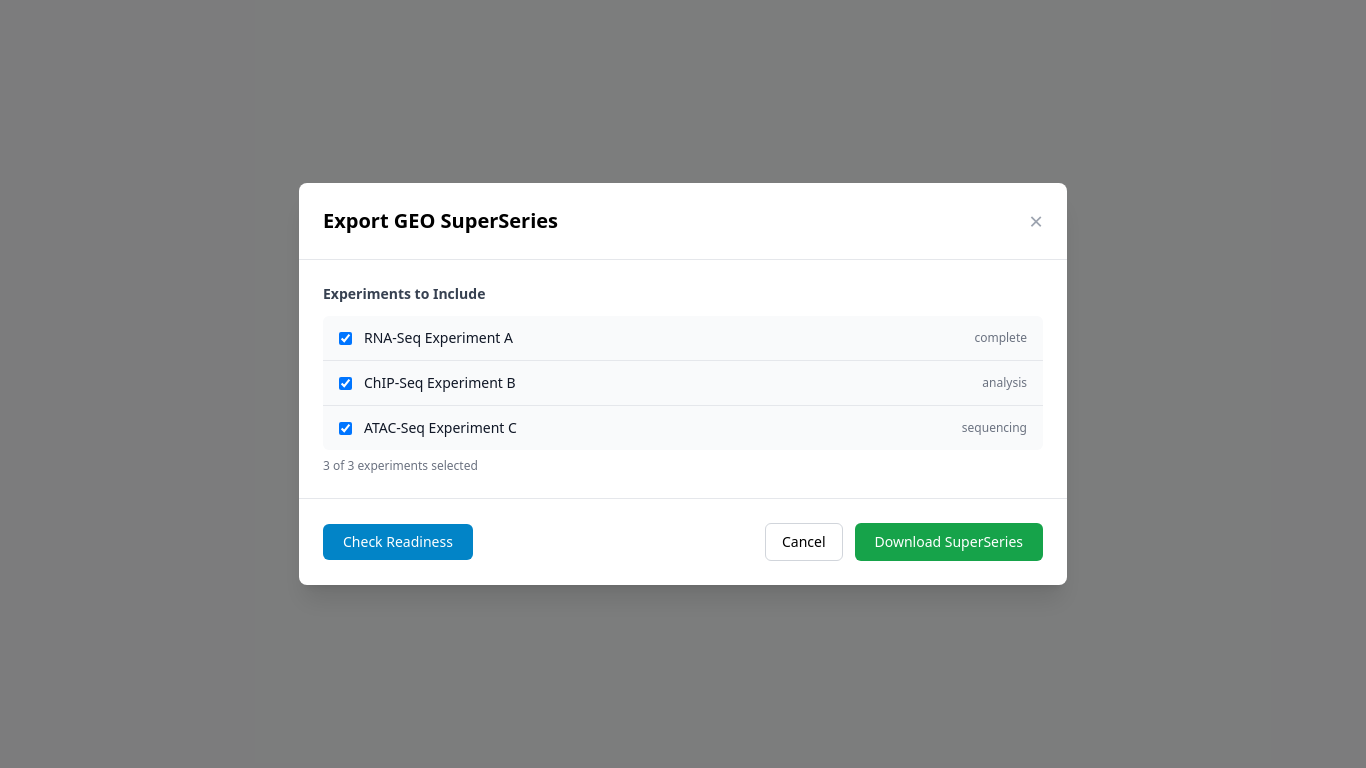
Test: SuperSeriesExportModal › experiment checkboxes toggle inclusion
Click the checkbox with test id "experiment-checkbox-2" at {"x": 346, "y": 383}, box [339,376,352,390]
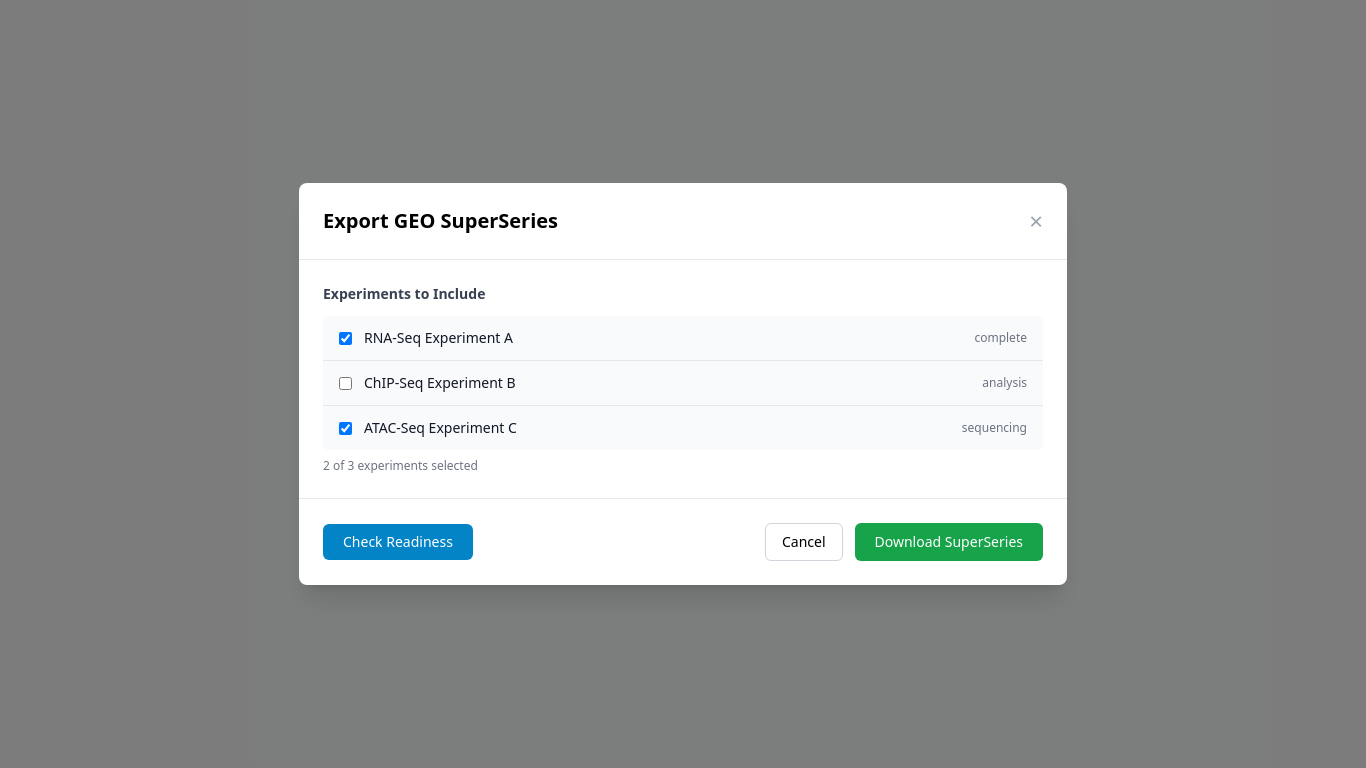
Expected: the checkbox with test id "experiment-checkbox-2" is not checked
Expected: the text "2 of 3 experiments selected" is shown, [323,457,478,474]
Toggle back on
Click the checkbox with test id "experiment-checkbox-2" at {"x": 346, "y": 383}, box [339,376,352,390]
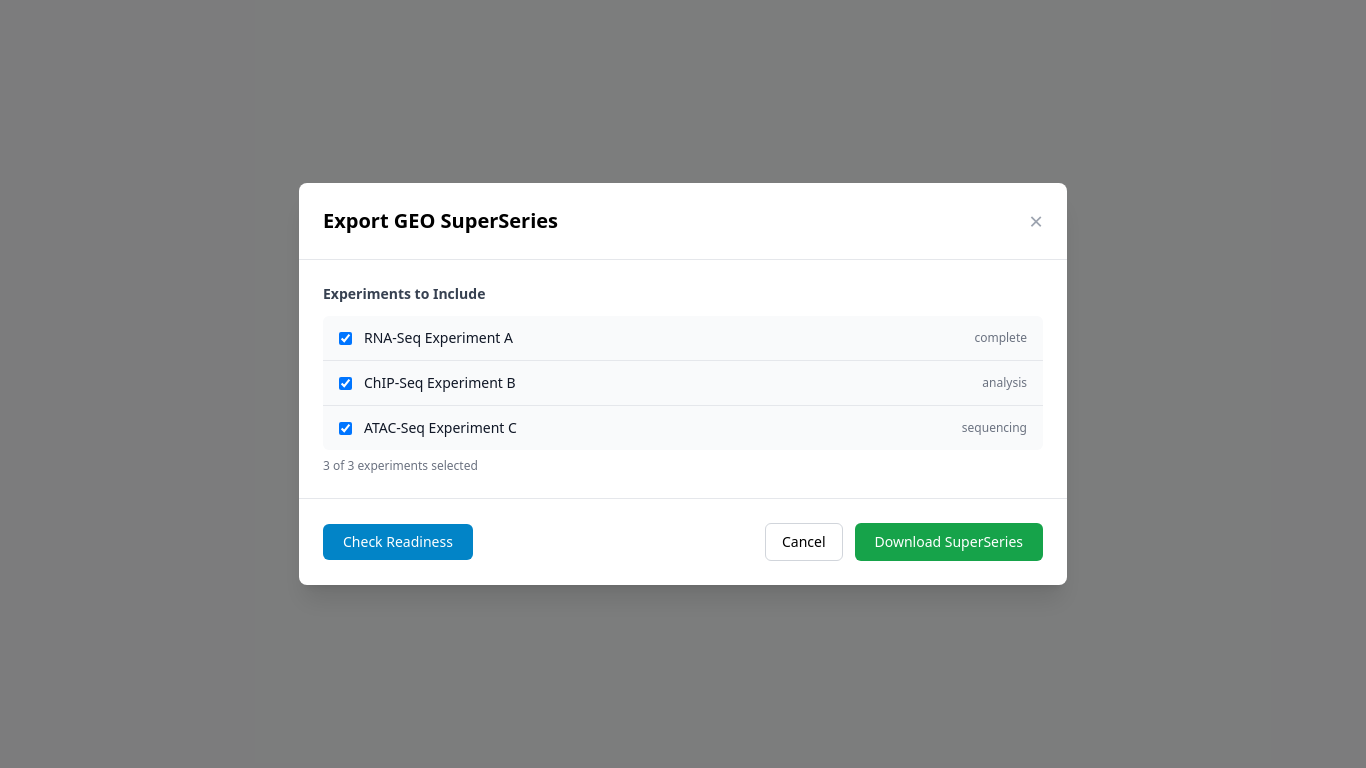
Expected: the checkbox with test id "experiment-checkbox-2" is checked, [339,376,352,390]
Expected: the text "3 of 3 experiments selected" is shown, [323,457,478,474]
